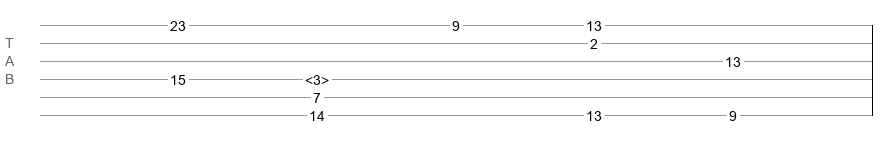13: (586, 108, 602, 118), (586, 18, 602, 28), (725, 54, 741, 64)
14: (309, 108, 325, 118)
15: (170, 72, 186, 82)
2: (590, 36, 598, 46)
23: (170, 18, 186, 28)
7: (313, 90, 321, 100)
9: (452, 18, 460, 28), (729, 108, 737, 118)
harmonic: (305, 72, 329, 82)
